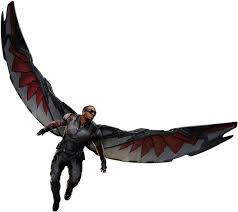Object-Detection: (0, 0, 238, 210)
